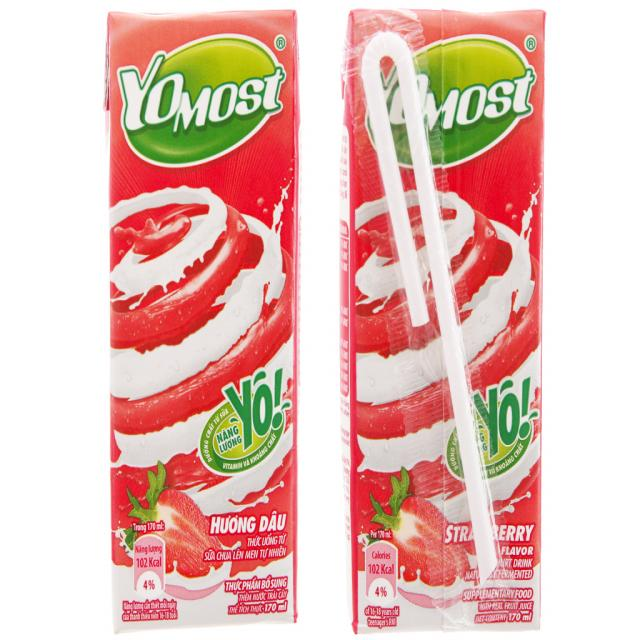non_white_jug: (333, 9, 563, 630), (96, 6, 320, 628)
